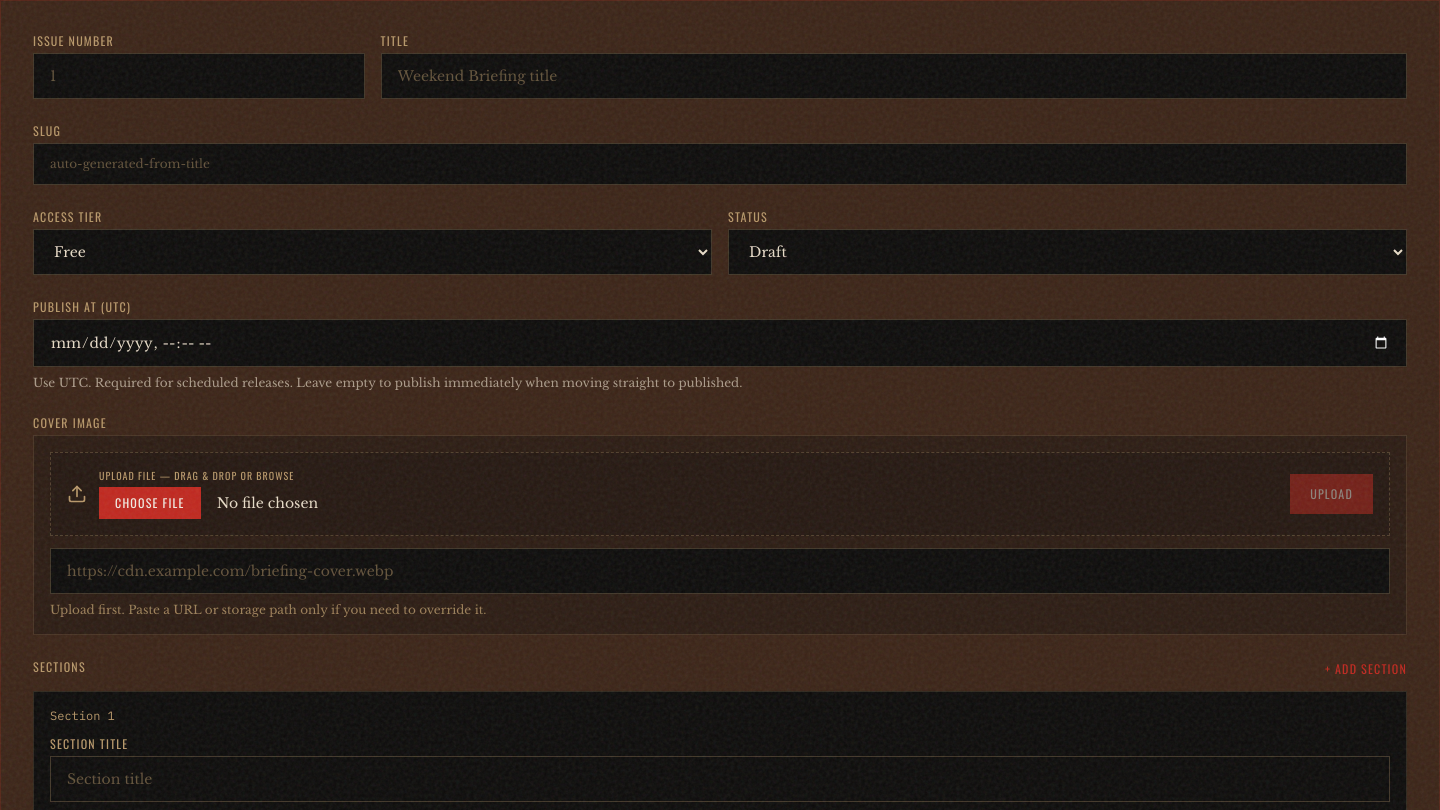
Test: BriefingForm › auto-generates slug from title on blur when slug is empty
The image size is (1440, 810).
Type "Weekend Briefing 010" into the field labelled "Title".
click(894, 76); type("Weekend Briefing 010")  # box [380,53,1407,99]
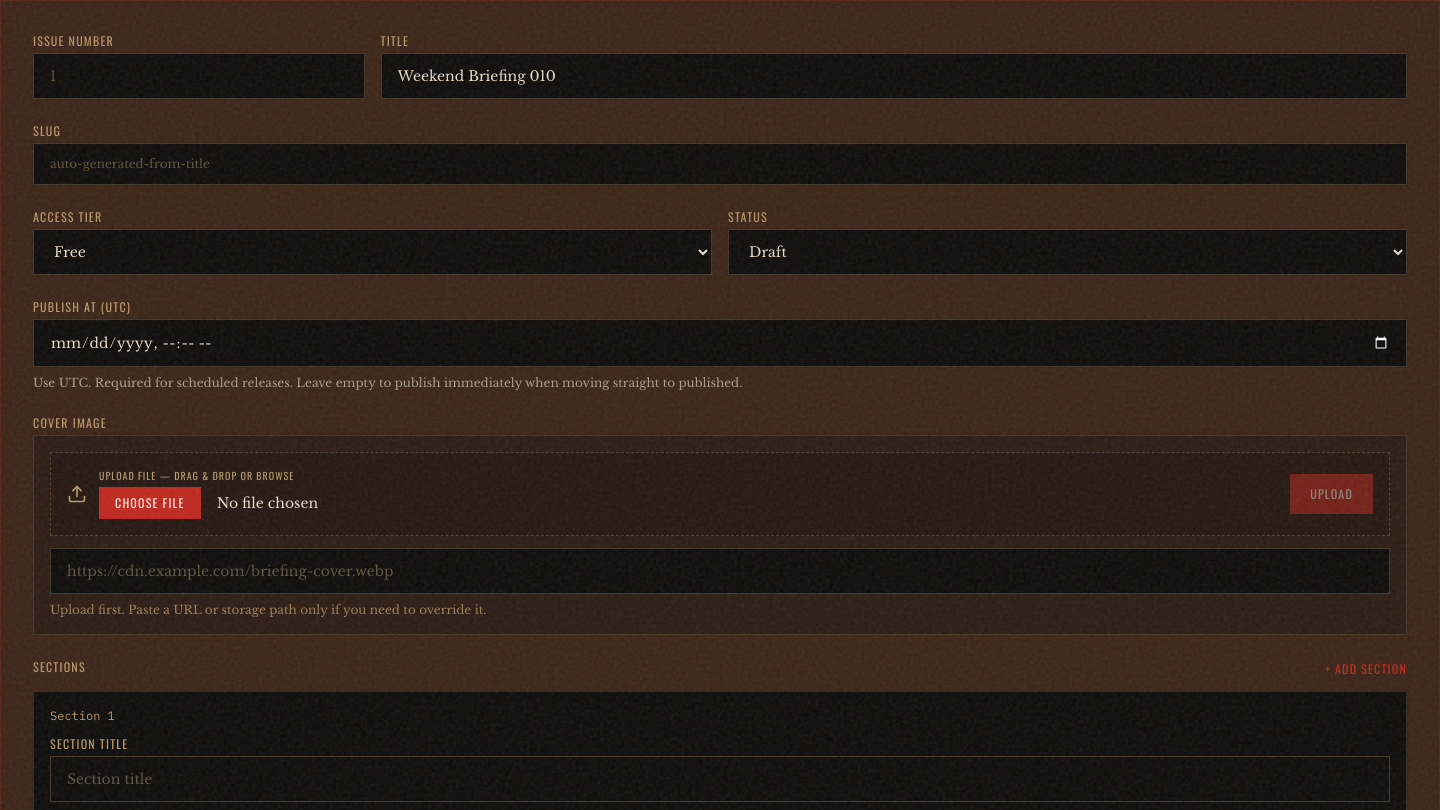
Leave the field labelled "Title", box [380,53,1407,99]
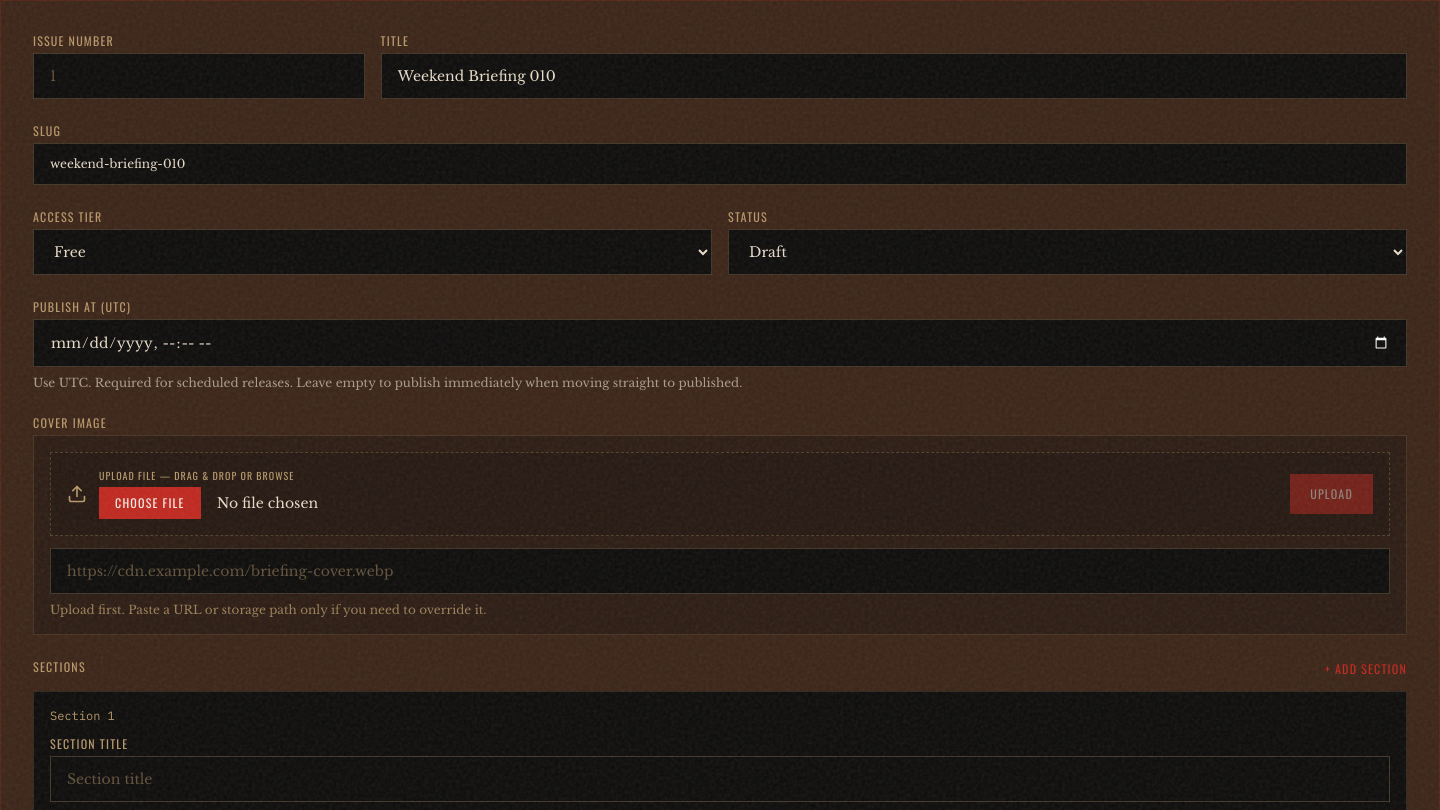
Now the field labelled "Slug" holds "weekend-briefing-010", box [33,143,1407,185]
